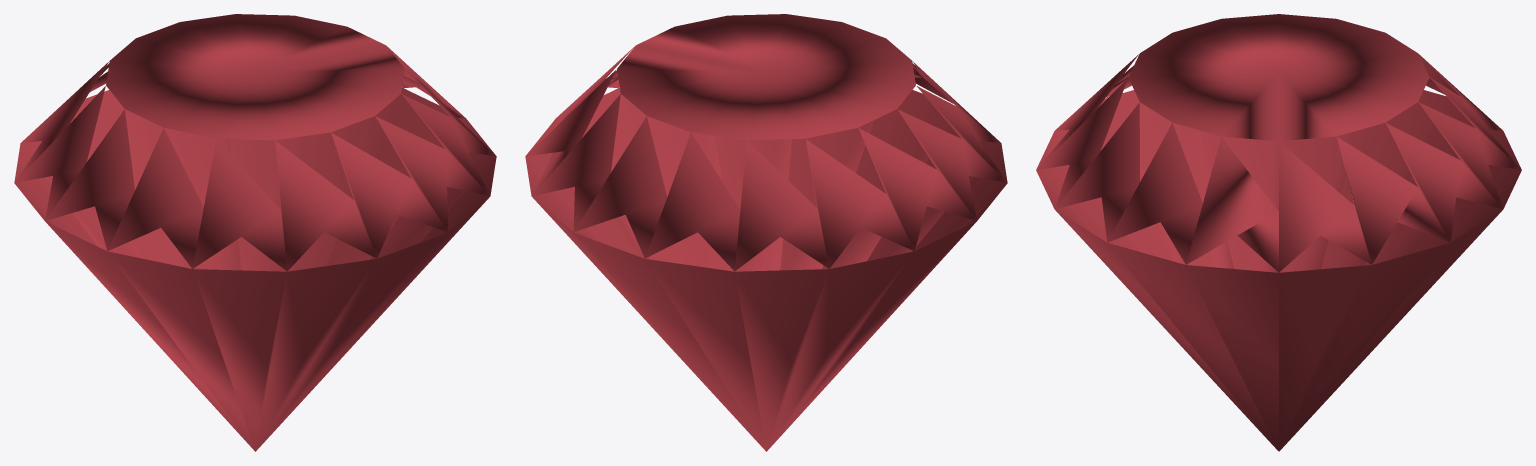
Rendered from brilliant-red.glb.
3 renders of one model, left to right at view 1: azimuth 30°, elevation 25°; view 2: azimuth 150°, elevation 25°; view 3: azimuth 270°, elevation 25°, orthographic.
Parts seen in each view (by area): view 1: gem; view 2: gem; view 3: gem.
Boxes of the visible parts, x1,y1,x2,y2 form: gem: [14, 14, 496, 451]; gem: [525, 14, 1007, 451]; gem: [1036, 14, 1521, 451].
Size of the model in its own units: 2 by 1.72 by 2.
